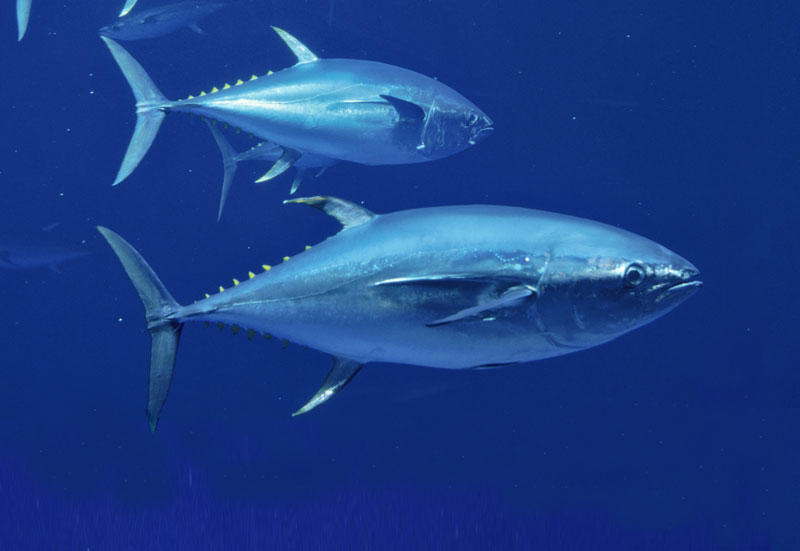Bluefina Tuna: (99, 196, 708, 416), (101, 30, 506, 195)
